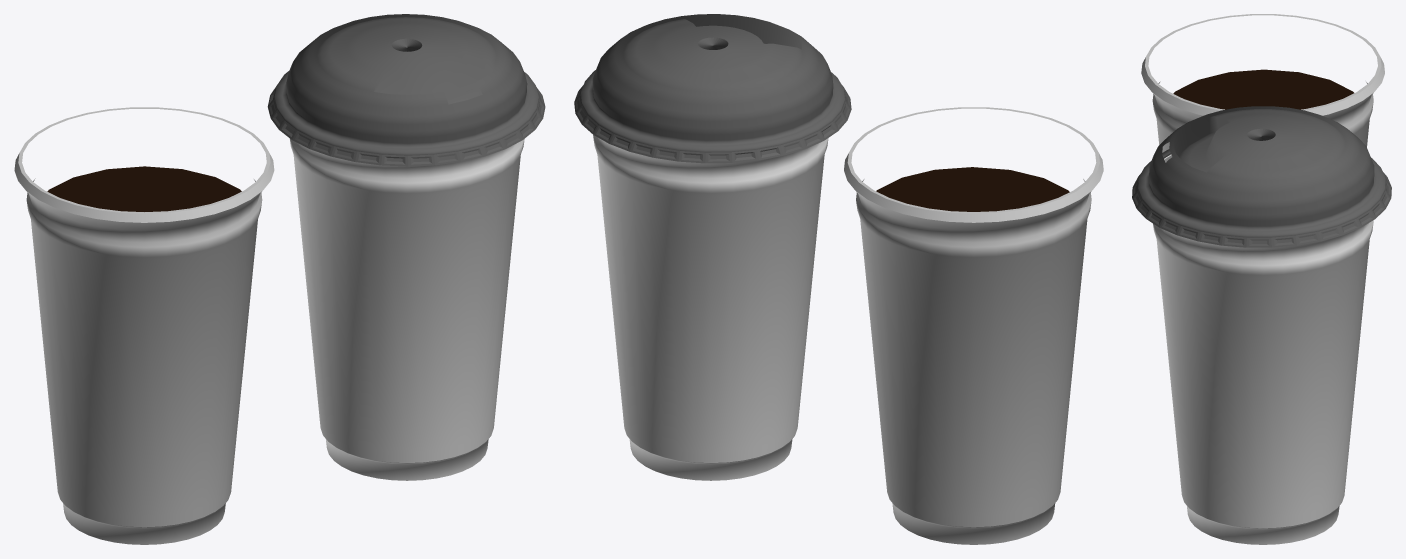
Rendered from Espresso coffee.glb.
3 views of the same model, side by side, from view 1: azimuth 30°, elevation 25°; view 2: azimuth 150°, elevation 25°; view 3: azimuth 270°, elevation 25° (orthographic). The views are drawn at different scales.
Parts seen in each view (by area): view 1: ChamferCyl004, ChamferCyl003, Sphere001, Cylinder004; view 2: ChamferCyl004, ChamferCyl003, Sphere001, Cylinder004; view 3: ChamferCyl003, Sphere001, Cylinder004, ChamferCyl004.
Part boxes in pixels (<box>): ChamferCyl004: <box>14,107,274,544</box>; ChamferCyl003: <box>289,138,524,480</box>; Sphere001: <box>267,14,545,166</box>; Cylinder004: <box>47,166,241,211</box>; ChamferCyl004: <box>844,107,1103,544</box>; ChamferCyl003: <box>593,135,828,480</box>; Sphere001: <box>574,14,851,163</box>; Cylinder004: <box>876,167,1069,211</box>; ChamferCyl003: <box>1153,154,1373,544</box>; Sphere001: <box>1132,106,1391,247</box>; Cylinder004: <box>1173,69,1353,109</box>; ChamferCyl004: <box>1141,14,1384,162</box>.
Size of the model in its own units: 134 by 105 by 65.23.
